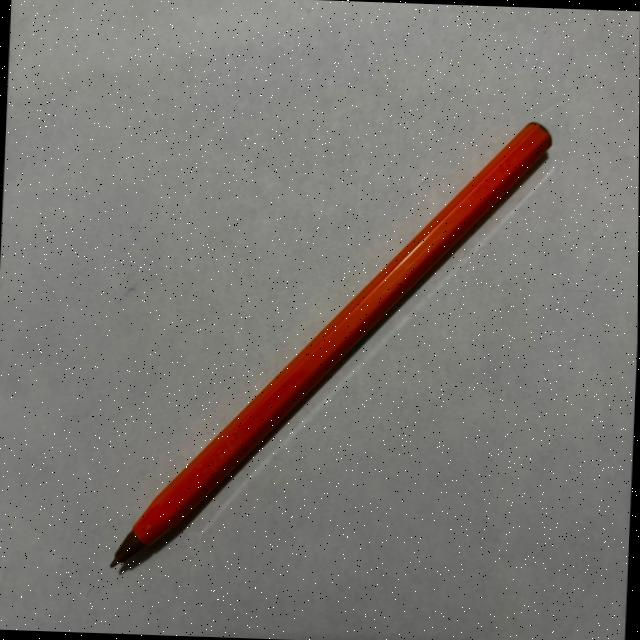pencil: (111, 123, 554, 575)
